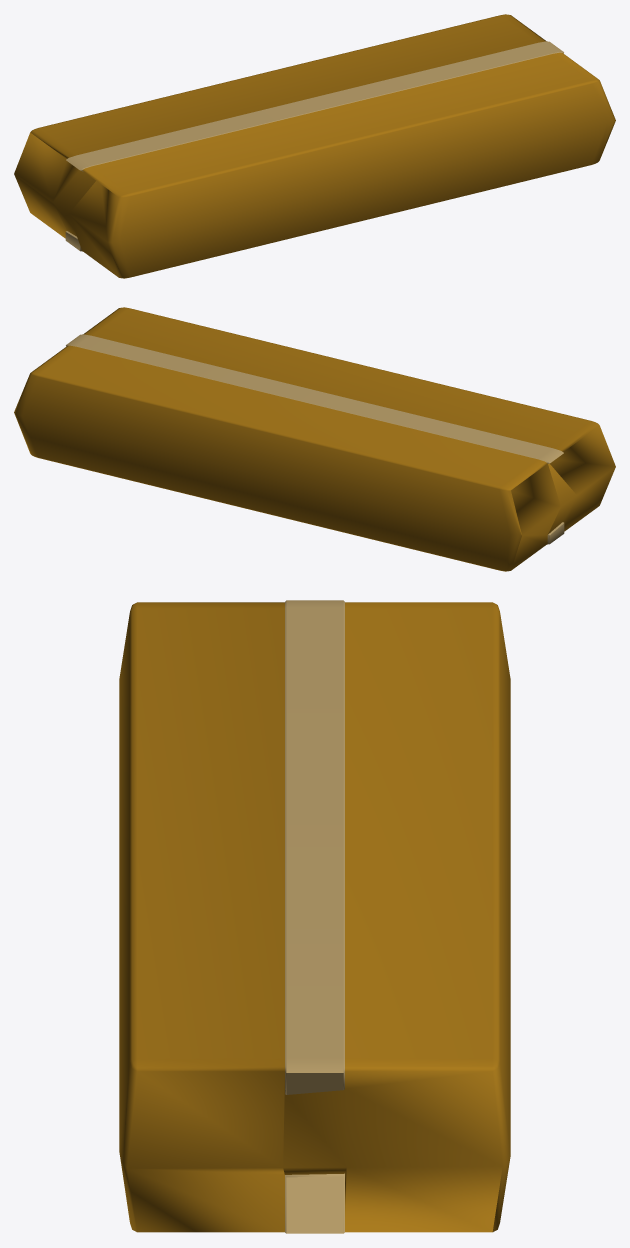
File: Box_Model_crushed(3x1x1).fbx
The picture shows the model from 3 angles, top to bottom: view 1: azimuth 30°, elevation 25°; view 2: azimuth 150°, elevation 25°; view 3: azimuth 270°, elevation 25°; orthographic projection. The views are drawn at different scales.
Visible parts, largest first — view 1: 3x1x1_crushed; view 2: 3x1x1_crushed; view 3: 3x1x1_crushed.
Boxes of the visible parts, left/top/right/bottom form: 3x1x1_crushed: left=14, top=14, right=615, bottom=278; 3x1x1_crushed: left=14, top=307, right=615, bottom=571; 3x1x1_crushed: left=119, top=600, right=510, bottom=1233.
Size of the model in its own units: 31.71 by 5.02 by 10.57.
